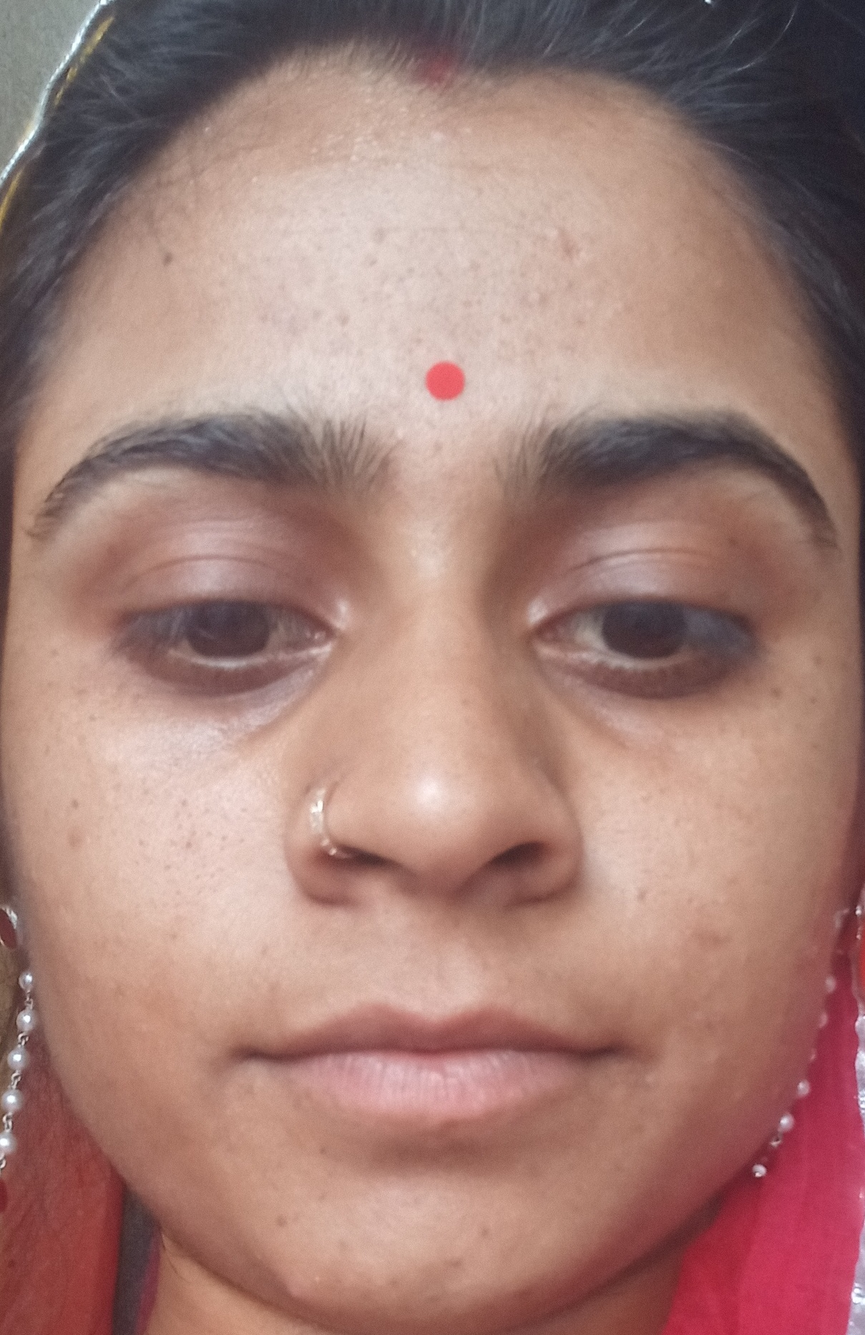closed_comedone: (526, 220, 603, 273), (35, 808, 115, 857)
